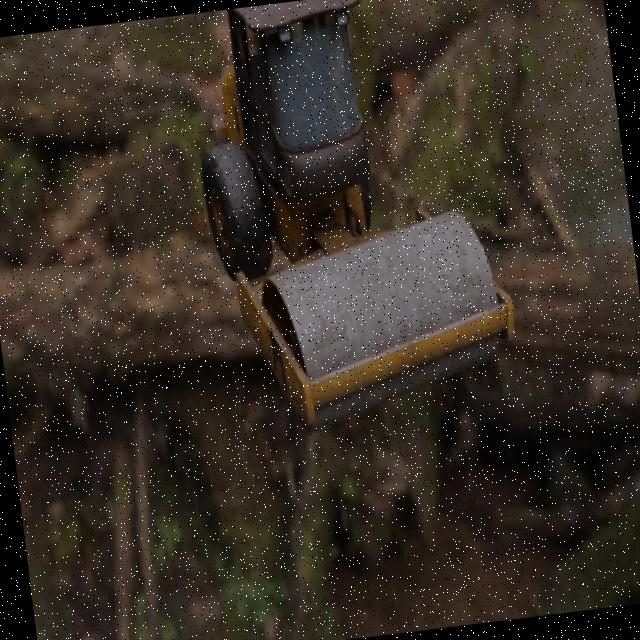Roller: (179, 0, 525, 444)
